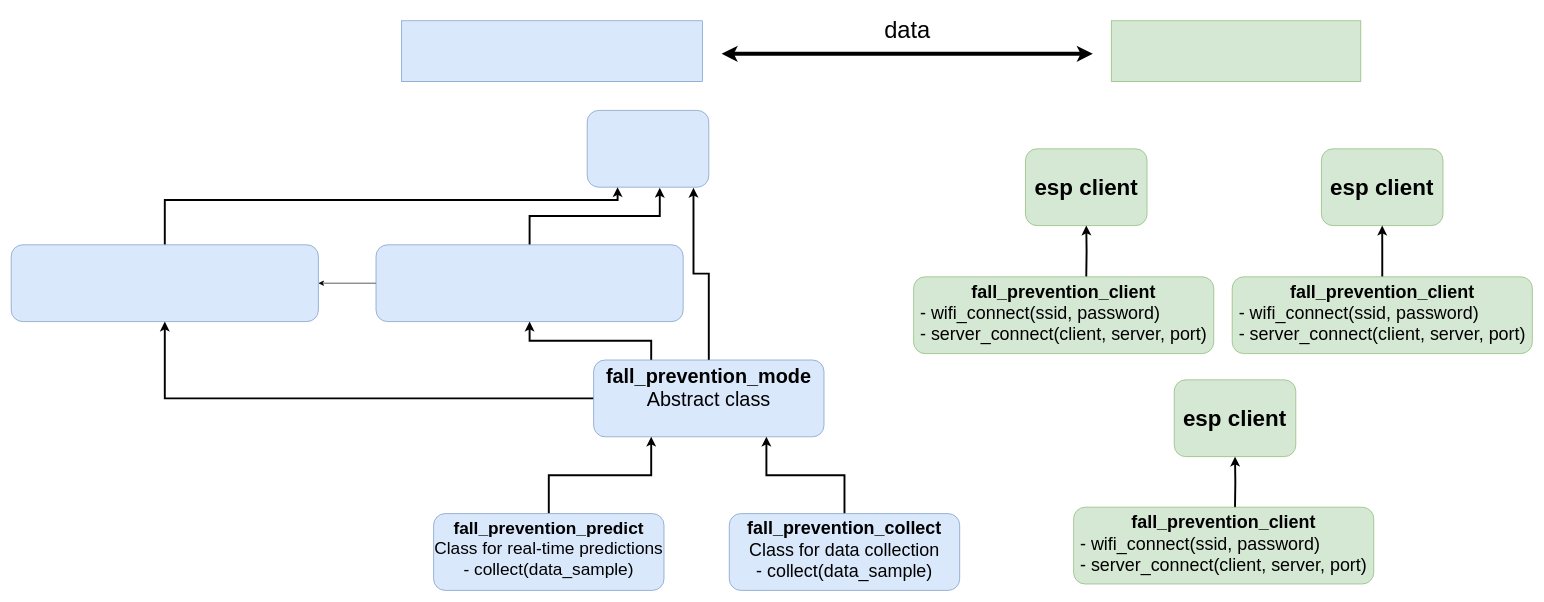
Some shapes in this 1544 by 602 pixel diagram are drawn without their labels. Here are the shapes that lost their labels. From the top down, the centre of each, then its label:
At point 551,51: "Server Side - Work Station".
At point 1236,51: "Client Side - ESP(s)".
At point 648,148: "WS".
At point 164,283: "fall_prevention_web Flask driven web".
At point 529,283: "fall_prevention_server - Server.start(addr, num_clients, verbose, mode)".
